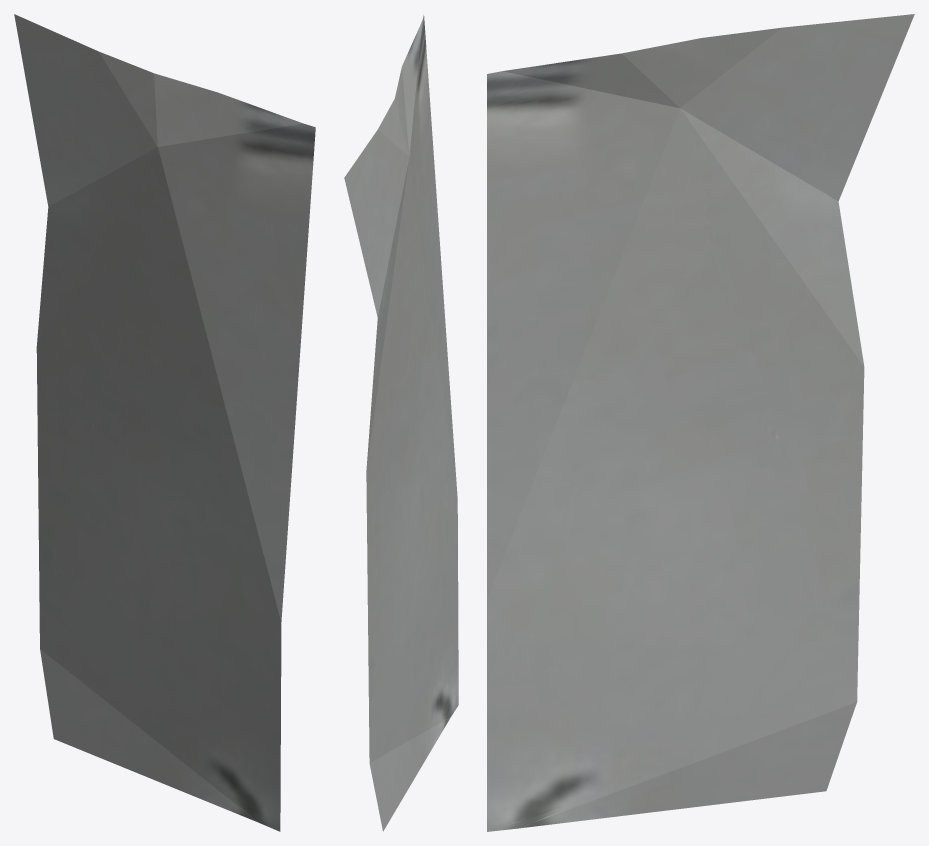
3 renders of one model, left to right at view 1: azimuth 30°, elevation 25°; view 2: azimuth 150°, elevation 25°; view 3: azimuth 270°, elevation 25°, orthographic. The views are drawn at different scales.
Bounding box in the file's own units: 0.1387 × 0.8374 × 0.4176.
Materials: 2 (2 with a texture image).
